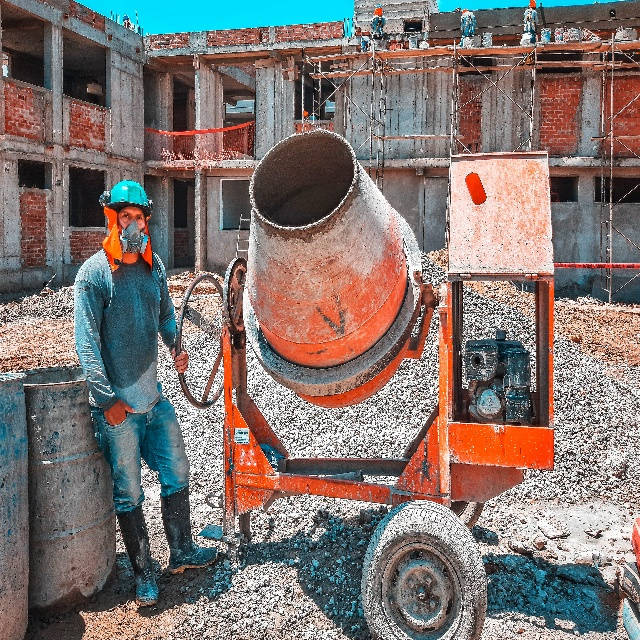Sin_guantes: (104, 399, 136, 426), (171, 344, 189, 374)
